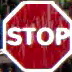Stop: (3, 0, 71, 71)
